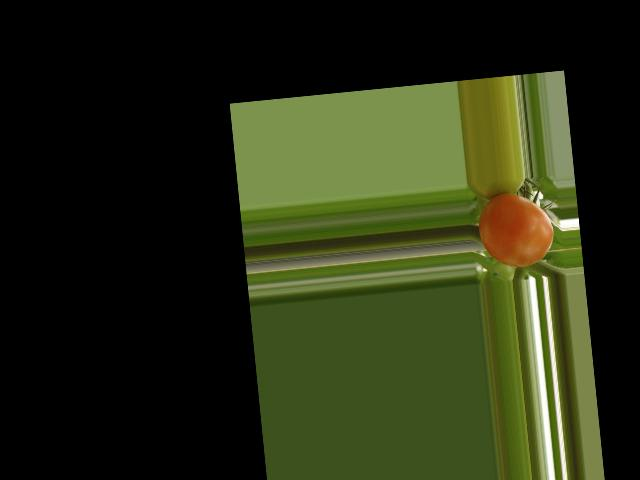tomato: (475, 188, 556, 270)
